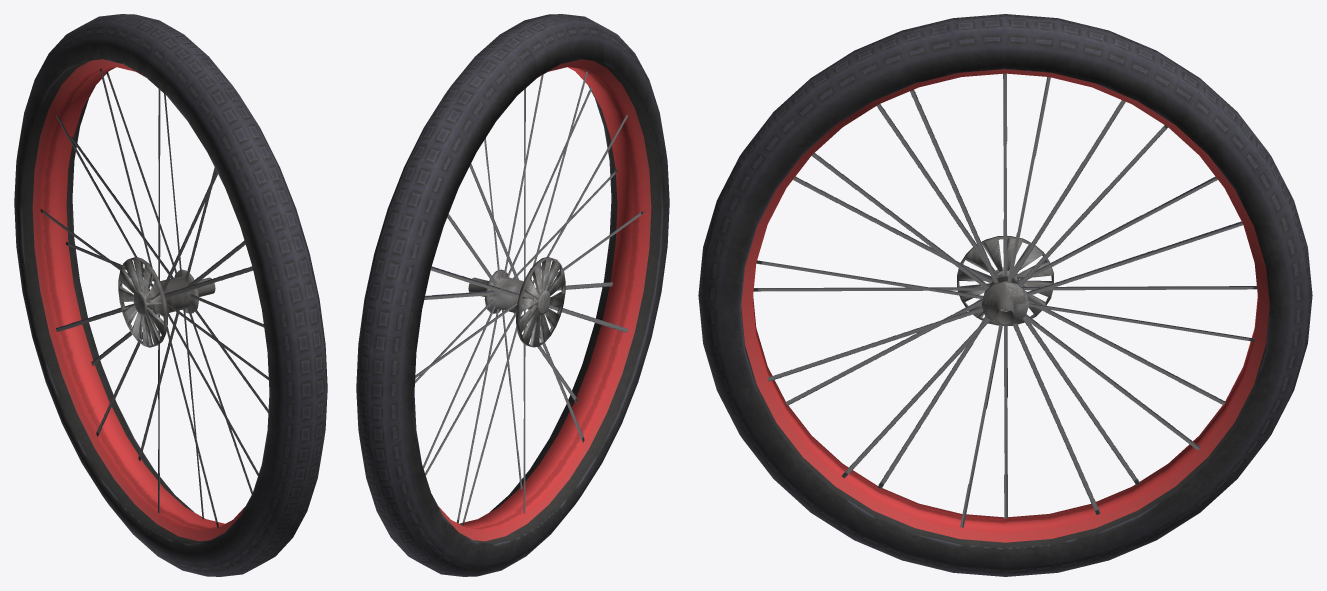
The model's file is whe_#1_delantera_derecha.fbx.
The picture shows the model from 3 angles, left to right: view 1: azimuth 30°, elevation 25°; view 2: azimuth 150°, elevation 25°; view 3: azimuth 270°, elevation 25°; orthographic projection. The views are drawn at different scales.
Visible parts, largest first — view 1: whe_#1_delantera_derecha; view 2: whe_#1_delantera_derecha; view 3: whe_#1_delantera_derecha.
Boxes of the visible parts, x1,y1,x2,y2 form: whe_#1_delantera_derecha: (14, 14, 327, 576); whe_#1_delantera_derecha: (356, 14, 669, 576); whe_#1_delantera_derecha: (698, 14, 1312, 576).
Size of the model in its own units: 11.78 by 81.32 by 81.32.
